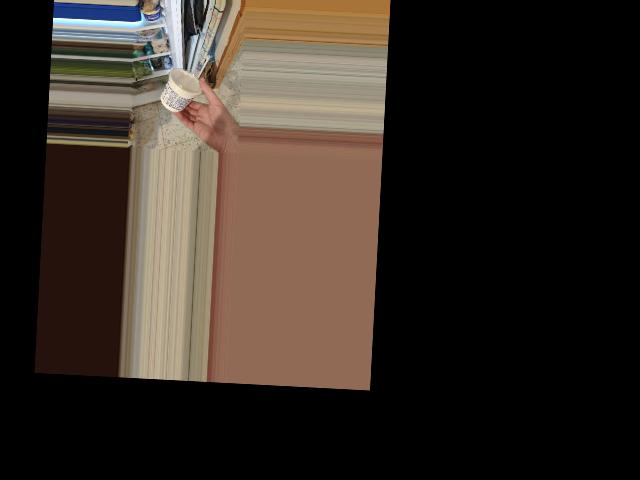cotage: (161, 65, 200, 109)
